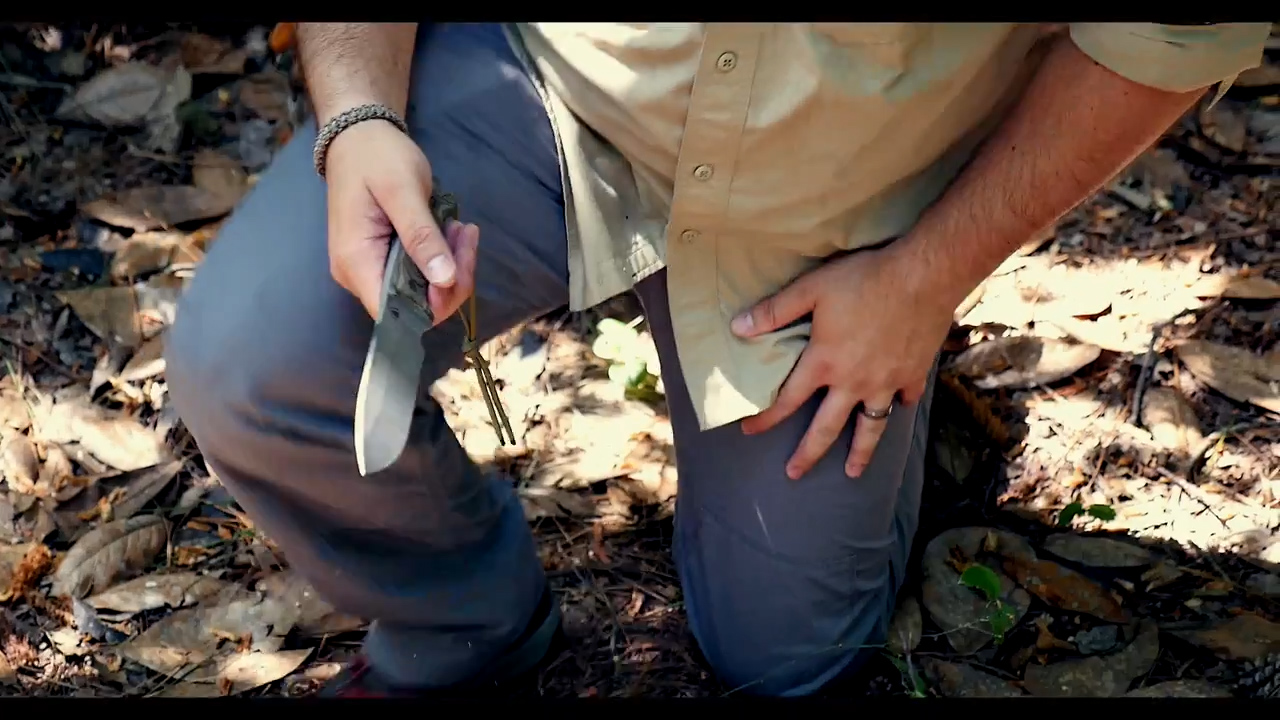knife: (323, 218, 490, 478)
